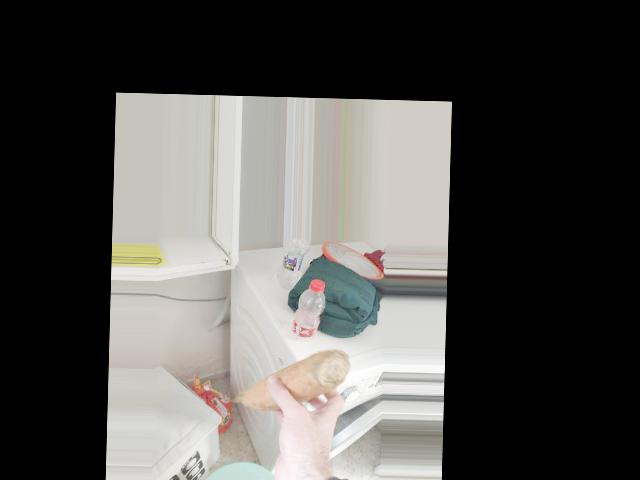sweet_potato: (243, 342, 343, 421)
